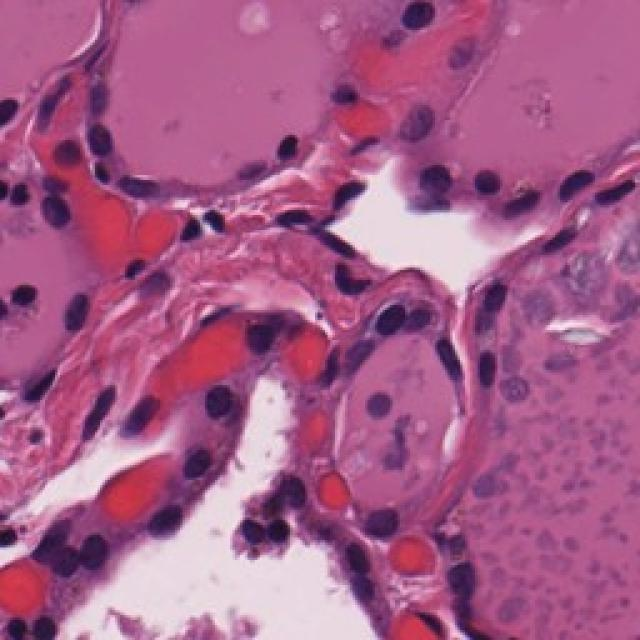normal: (120, 459, 216, 572), (20, 275, 118, 385), (330, 493, 414, 586), (352, 273, 426, 376), (390, 310, 474, 398), (172, 358, 264, 437), (161, 424, 245, 508), (367, 0, 473, 58), (538, 139, 602, 231), (403, 149, 470, 224), (71, 101, 128, 175)
